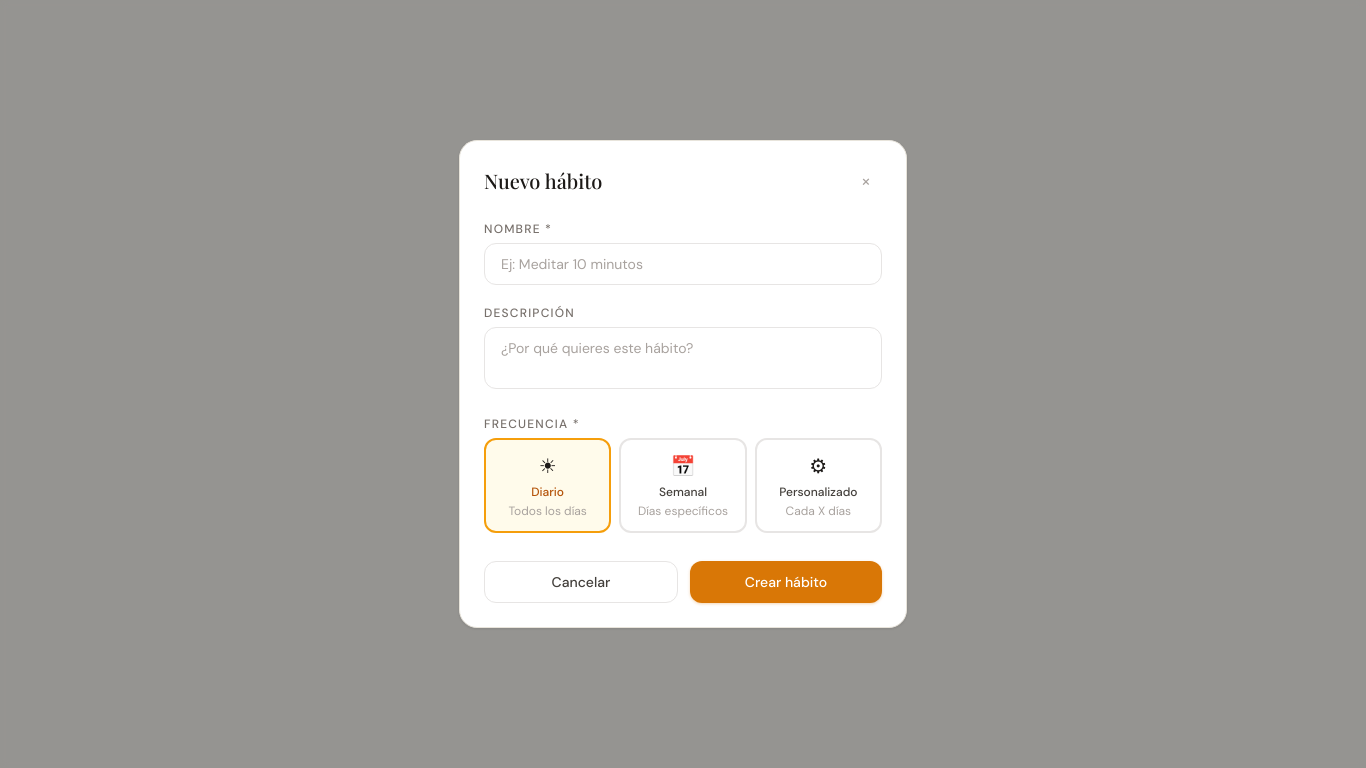
Test: HabitForm — validaciones › muestra error si los días semanales están vacíos con tipo WEEKLY
Note: Seleccionar WEEKLY
Click the text "Semanal" at (683, 492), box x1=659 y1=484 x2=707 y2=500
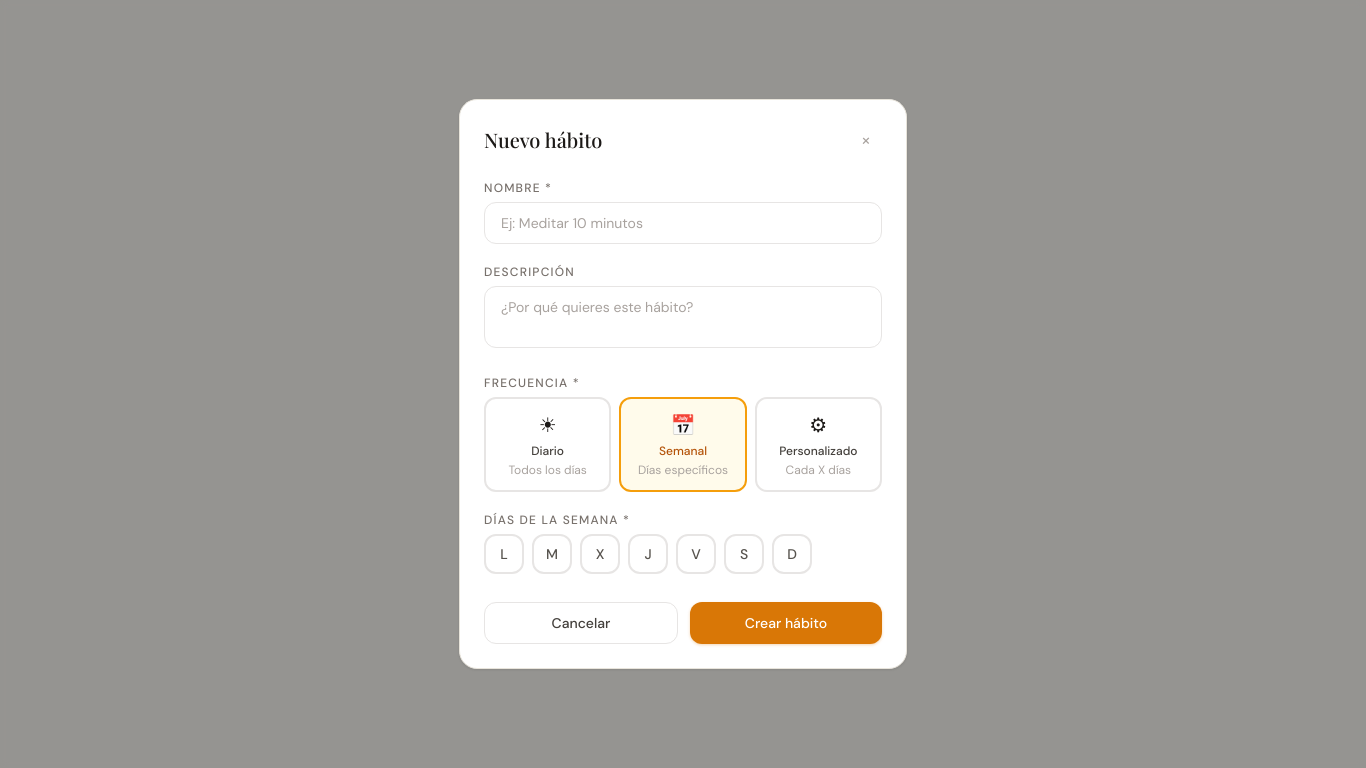
Type "Ejercicio" into the field with placeholder "Ej: Meditar 10 minutos" at (683, 223), box x1=484 y1=202 x2=882 y2=244
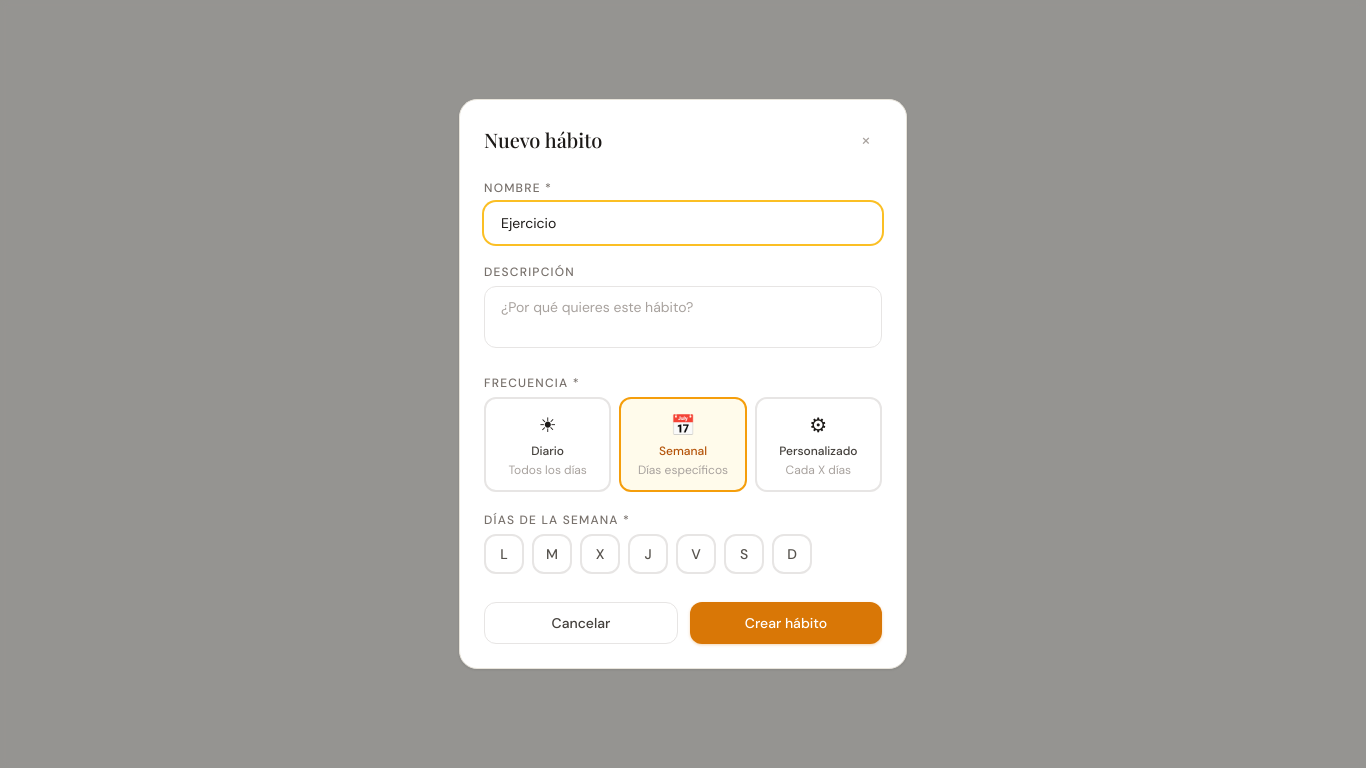
Click the button "Crear hábito" at (786, 623), box x1=690 y1=602 x2=882 y2=644
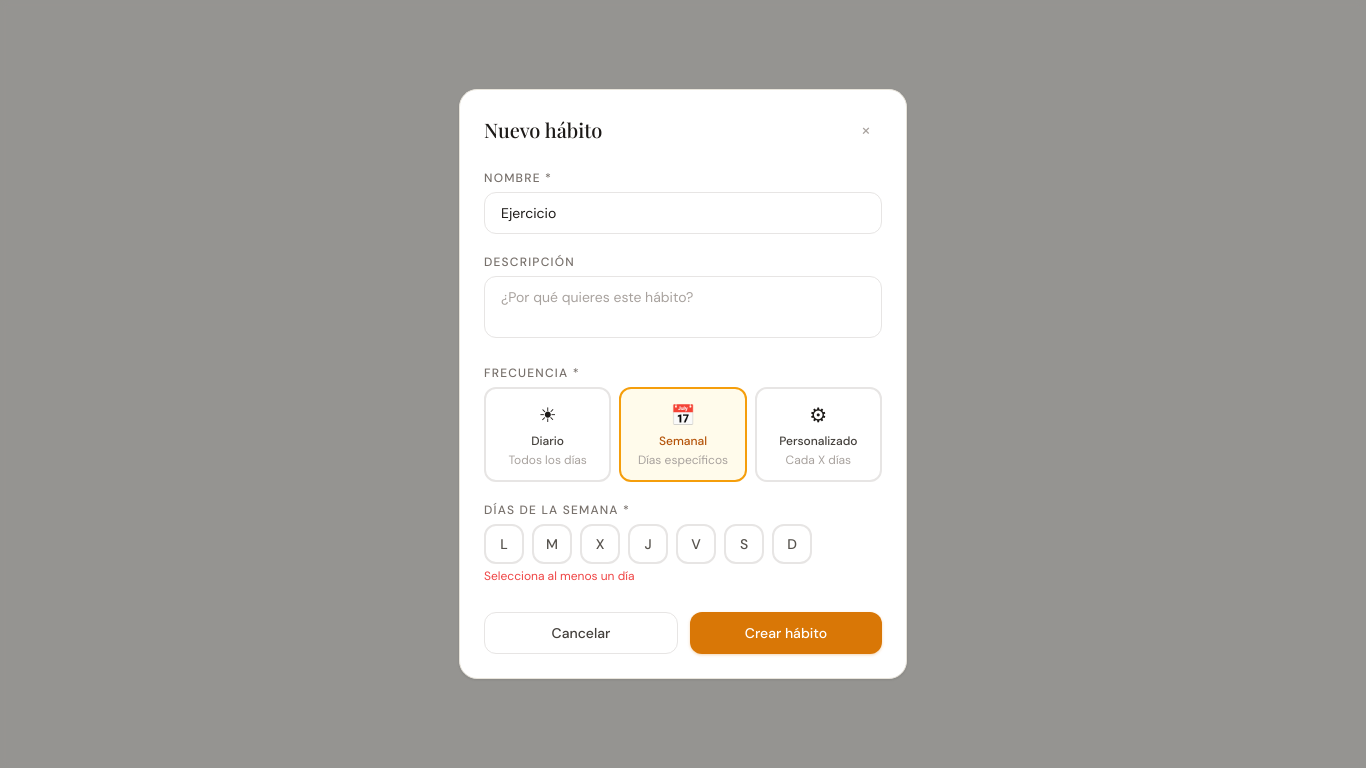
Expected: the text "Selecciona al menos un día" is shown, x1=484 y1=568 x2=634 y2=584
